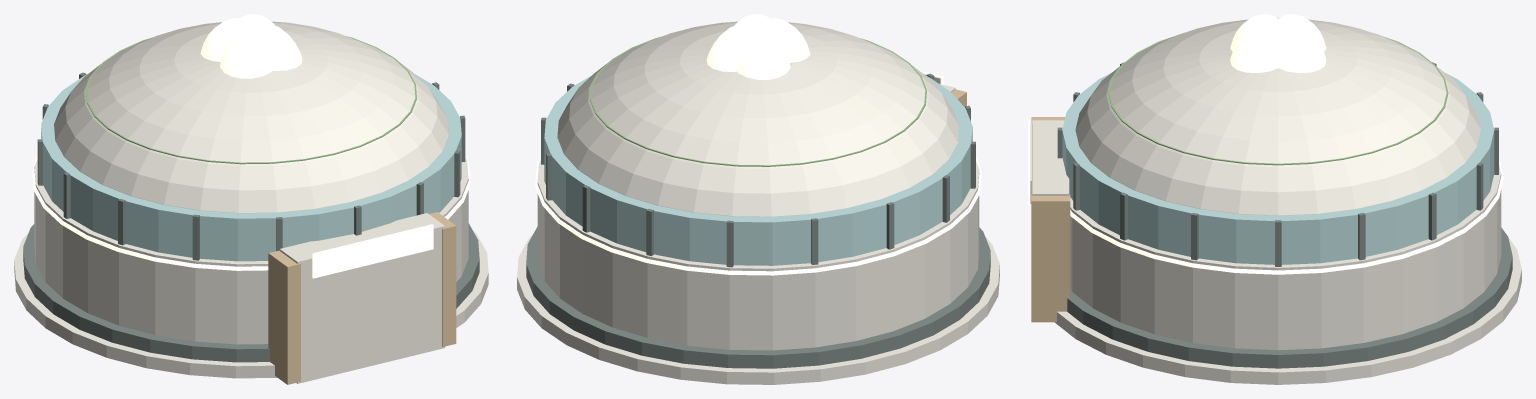
Rendered from Hatchery.fbx.
3 views of the same model, side by side, from view 1: azimuth 30°, elevation 25°; view 2: azimuth 150°, elevation 25°; view 3: azimuth 270°, elevation 25° (orthographic). The views are drawn at different scales.
Parts seen in each view (by area): view 1: Hatchery_Dome, Hatchery_LowerWall, Hatchery_TealRibbon, Portal_Frame, Hatchery_BaseRing, Hatchery_Footing, Portal_Timber_L, Hatchery_SignFrame, Egg_Skylight_2, Portal_Timber_R, Hatchery_AmberTrim, Egg_Skylight_3 (+2 smaller); view 2: Hatchery_Dome, Hatchery_LowerWall, Hatchery_TealRibbon, Hatchery_BaseRing, Hatchery_Footing, Hatchery_AmberTrim, Egg_Skylight_1, Egg_Skylight_0, Roof_GreenTerrace, Egg_Skylight_2, Ribbon_Mullion_3, Ribbon_Mullion_7; view 3: Hatchery_Dome, Hatchery_LowerWall, Hatchery_TealRibbon, Hatchery_BaseRing, Hatchery_Footing, Portal_Timber_R, Portal_Frame, Hatchery_AmberTrim, Egg_Skylight_3, Egg_Skylight_0, Roof_GreenTerrace, Egg_Skylight_1 (+2 smaller).
Part boxes in pixels (<box>): Hatchery_Dome: <box>54,21,448,213</box>; Hatchery_LowerWall: <box>34,158,468,344</box>; Hatchery_TealRibbon: <box>41,74,461,261</box>; Portal_Frame: <box>279,213,445,383</box>; Hatchery_BaseRing: <box>23,223,479,362</box>; Hatchery_Footing: <box>14,231,488,378</box>; Portal_Timber_L: <box>268,250,300,384</box>; Hatchery_SignFrame: <box>312,224,433,278</box>; Egg_Skylight_2: <box>220,27,272,78</box>; Portal_Timber_R: <box>429,212,456,346</box>; Hatchery_AmberTrim: <box>32,156,470,270</box>; Egg_Skylight_3: <box>254,23,302,70</box>; Hatchery_Dome: <box>557,21,959,216</box>; Hatchery_LowerWall: <box>537,160,979,350</box>; Hatchery_TealRibbon: <box>544,75,972,265</box>; Hatchery_BaseRing: <box>526,226,990,368</box>; Hatchery_Footing: <box>517,234,999,384</box>; Hatchery_AmberTrim: <box>535,158,981,275</box>; Egg_Skylight_1: <box>737,28,790,79</box>; Egg_Skylight_0: <box>706,24,755,72</box>; Roof_GreenTerrace: <box>590,36,926,166</box>; Egg_Skylight_2: <box>759,18,810,62</box>; Ribbon_Mullion_3: <box>582,185,590,232</box>; Ribbon_Mullion_7: <box>886,202,894,249</box>; Hatchery_Dome: <box>1075,18,1480,215</box>; Hatchery_LowerWall: <box>1070,165,1501,350</box>; Hatchery_TealRibbon: <box>1062,73,1494,264</box>; Hatchery_BaseRing: <box>1067,227,1512,368</box>; Hatchery_Footing: <box>1055,237,1521,384</box>; Portal_Timber_R: <box>1031,194,1070,322</box>; Portal_Frame: <box>1032,120,1069,195</box>; Hatchery_AmberTrim: <box>1070,158,1503,274</box>; Egg_Skylight_3: <box>1230,22,1278,73</box>; Egg_Skylight_0: <box>1278,22,1326,73</box>; Roof_GreenTerrace: <box>1108,32,1448,165</box>; Egg_Skylight_1: <box>1278,14,1326,51</box>.
Bounding box in the file's own units: 1060 × 639 × 1074.
